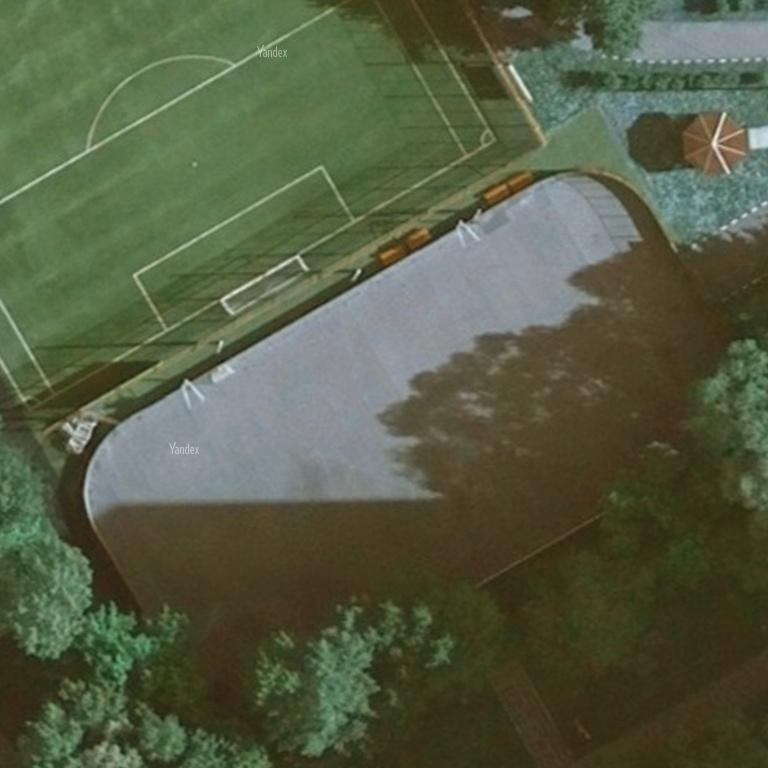basket_court: (383, 179, 703, 534), (126, 336, 435, 678)
